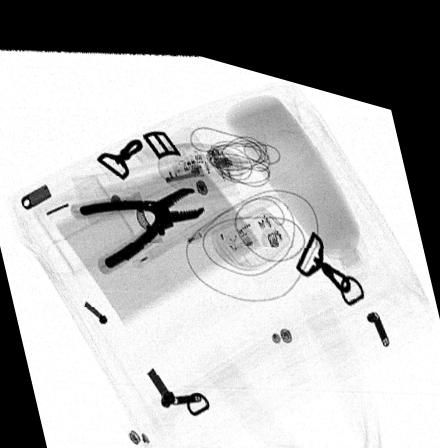Pliers: (77, 176, 205, 261)
